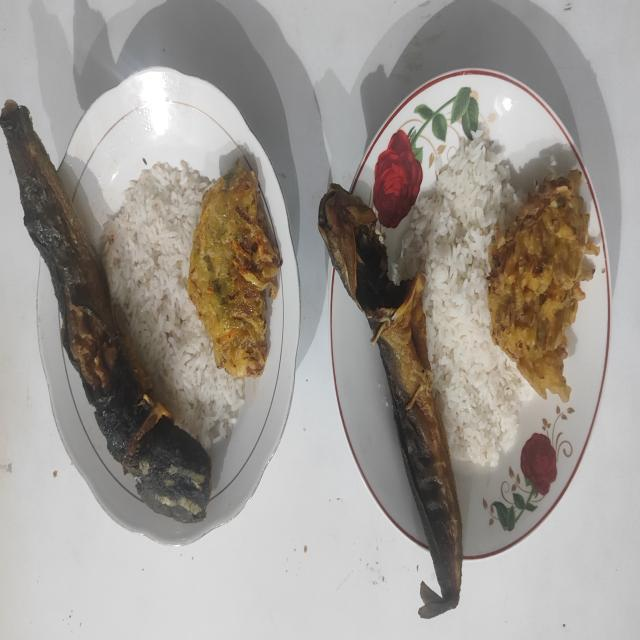nasi_putih: (392, 138, 532, 467), (101, 160, 246, 450)
